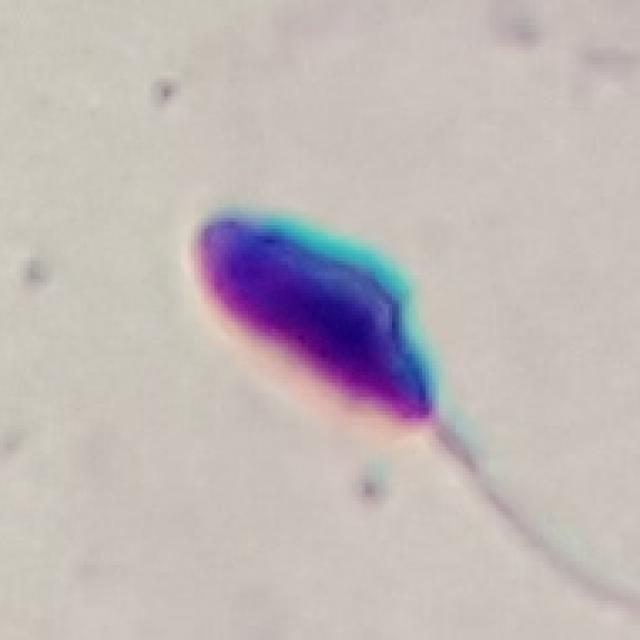abnormal sperm: (166, 200, 604, 572)
